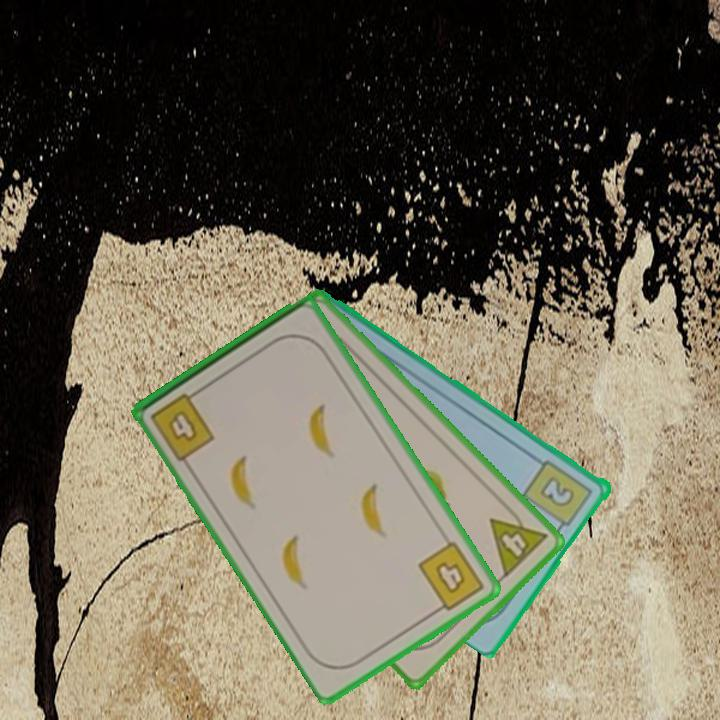2b: (520, 456, 597, 536)
4b: (415, 537, 488, 617), (147, 385, 218, 464)
4p: (486, 500, 550, 581)
